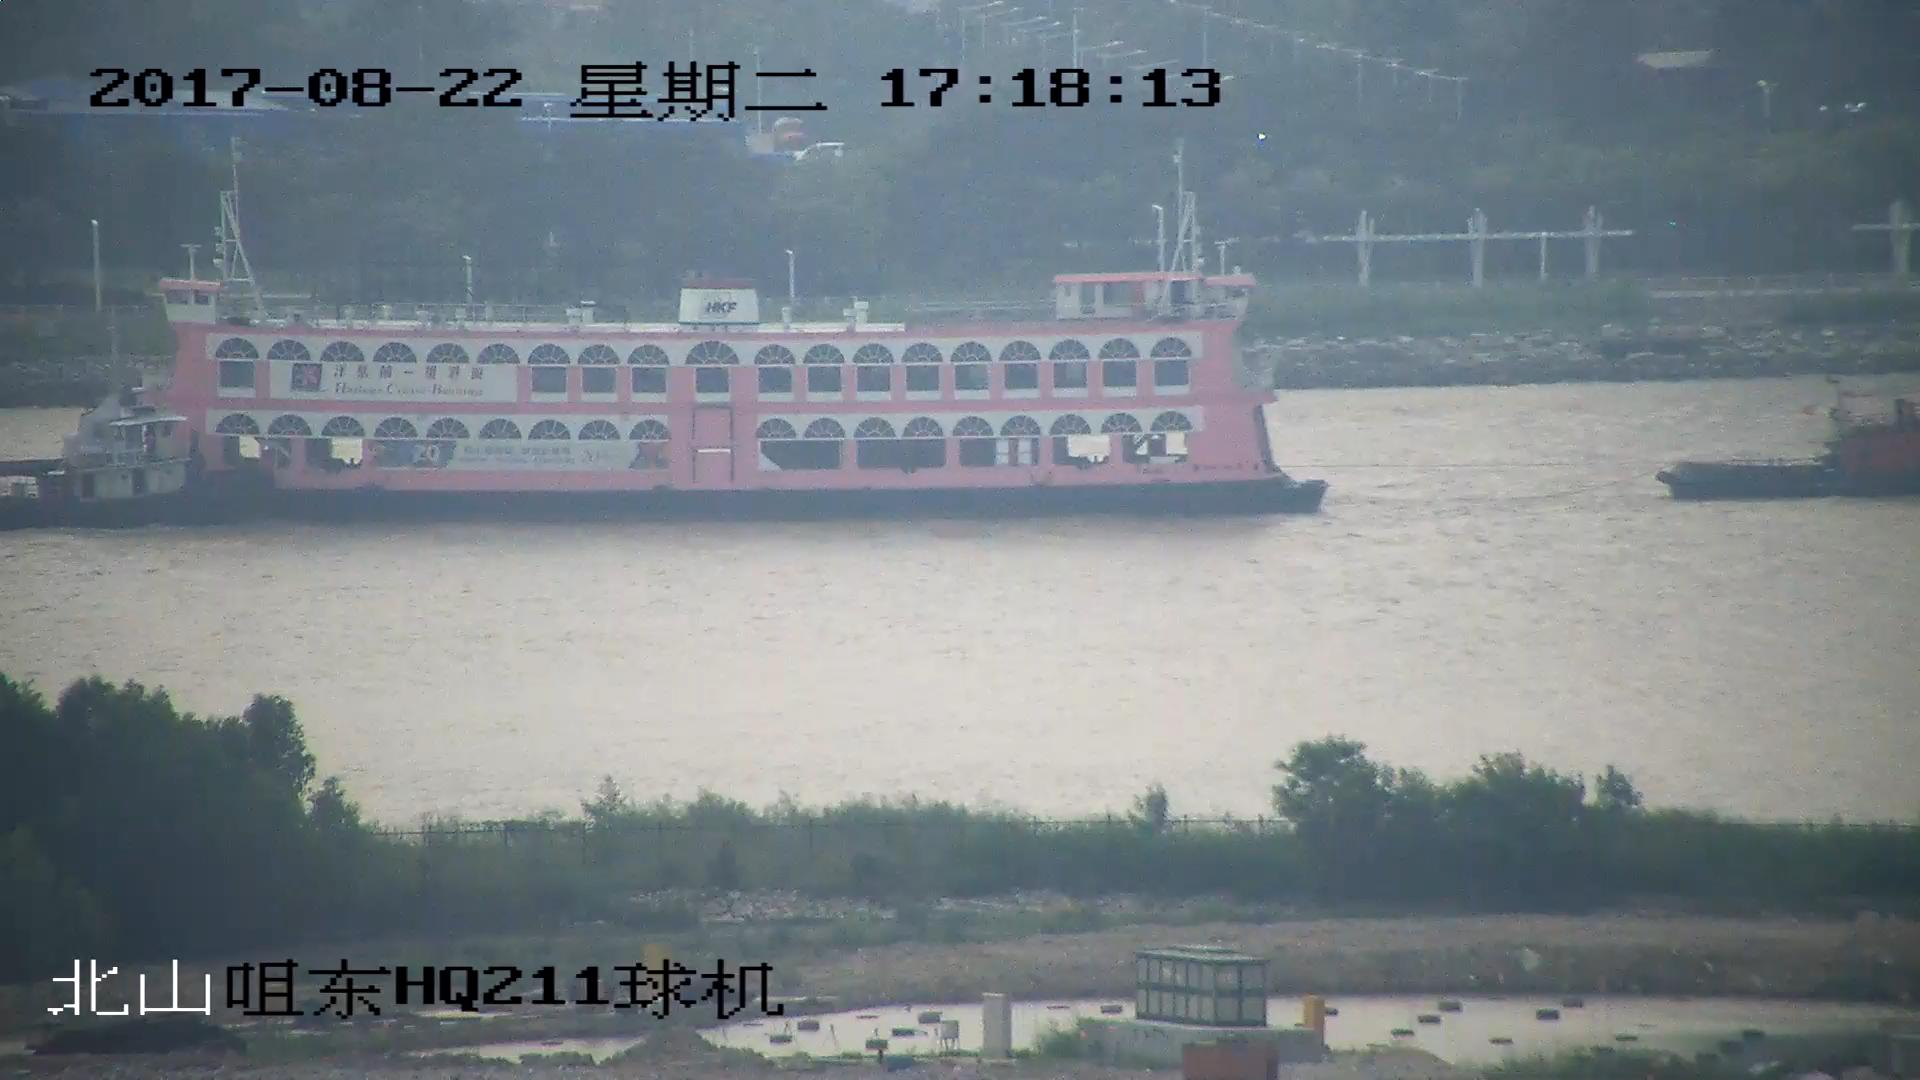passenger ship: (1, 149, 1330, 519)
